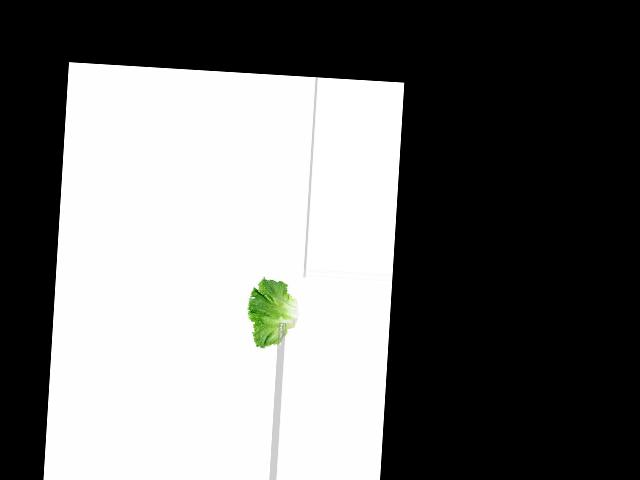lettuce: (246, 277, 301, 347)
